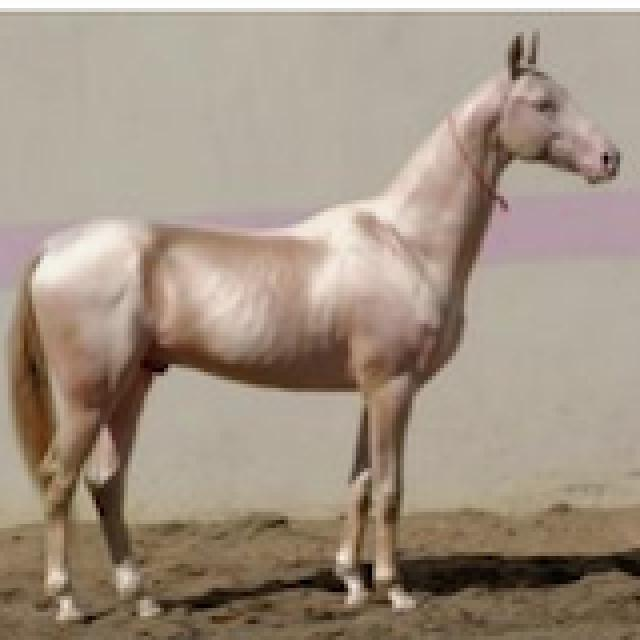Horse: (0, 28, 624, 624)
